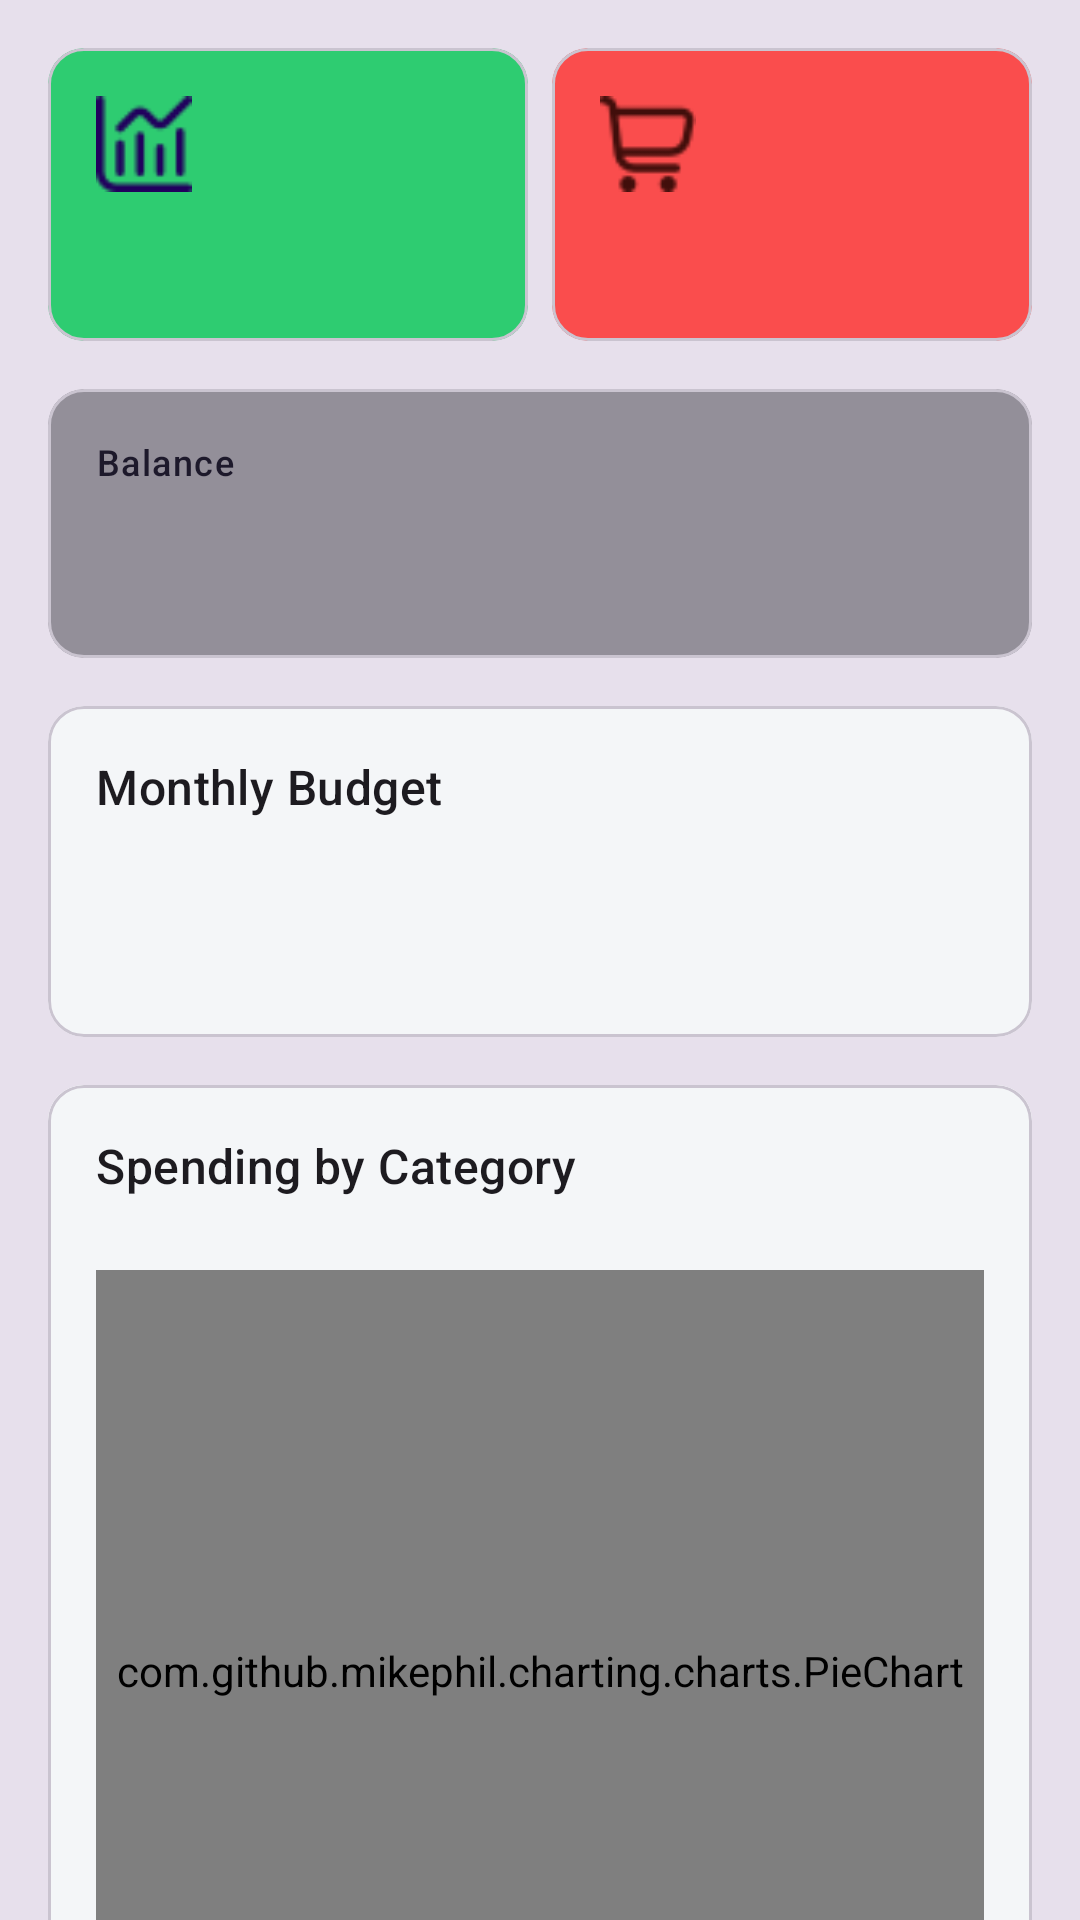

Icon click points for this 1080×1920 phone screenshot, format (x,y):
expense: (648,144)
income: (144,144)
